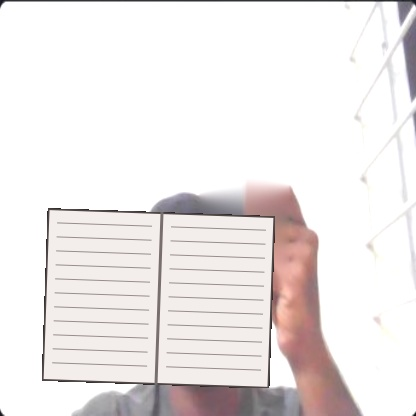book: (42, 208, 275, 388)
